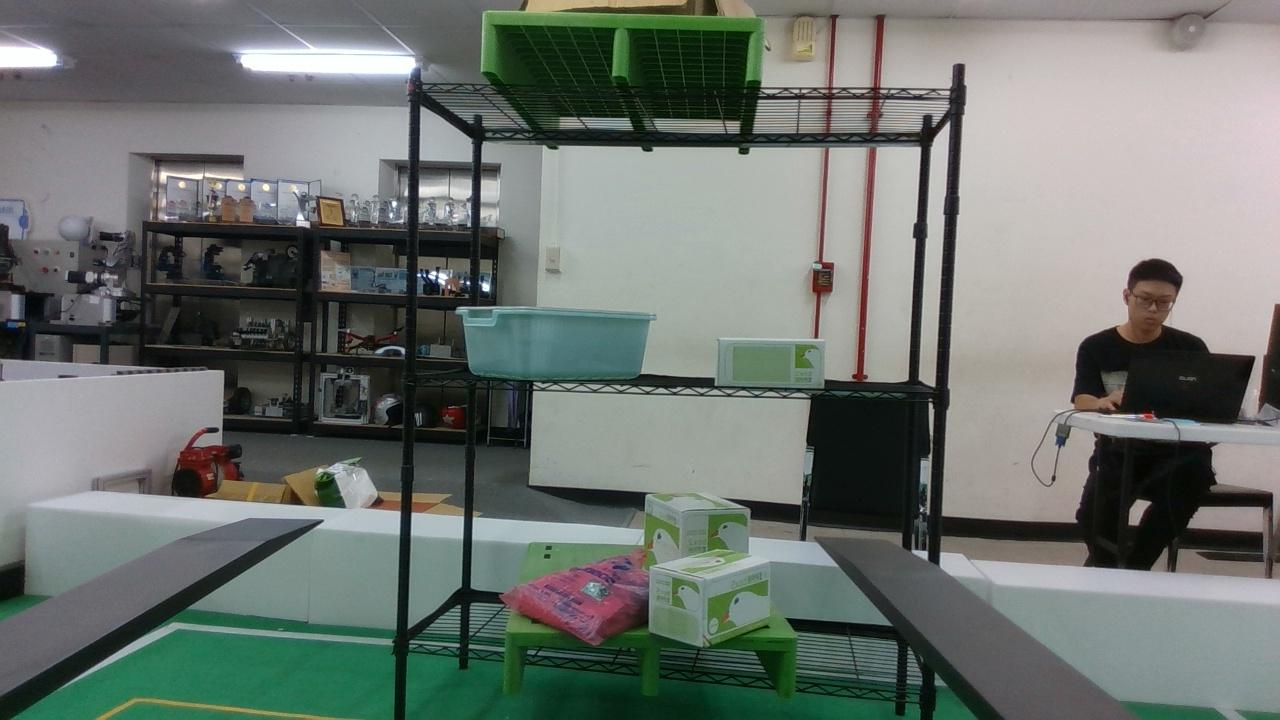Pallet: (480, 10, 765, 82), (504, 631, 801, 699)
